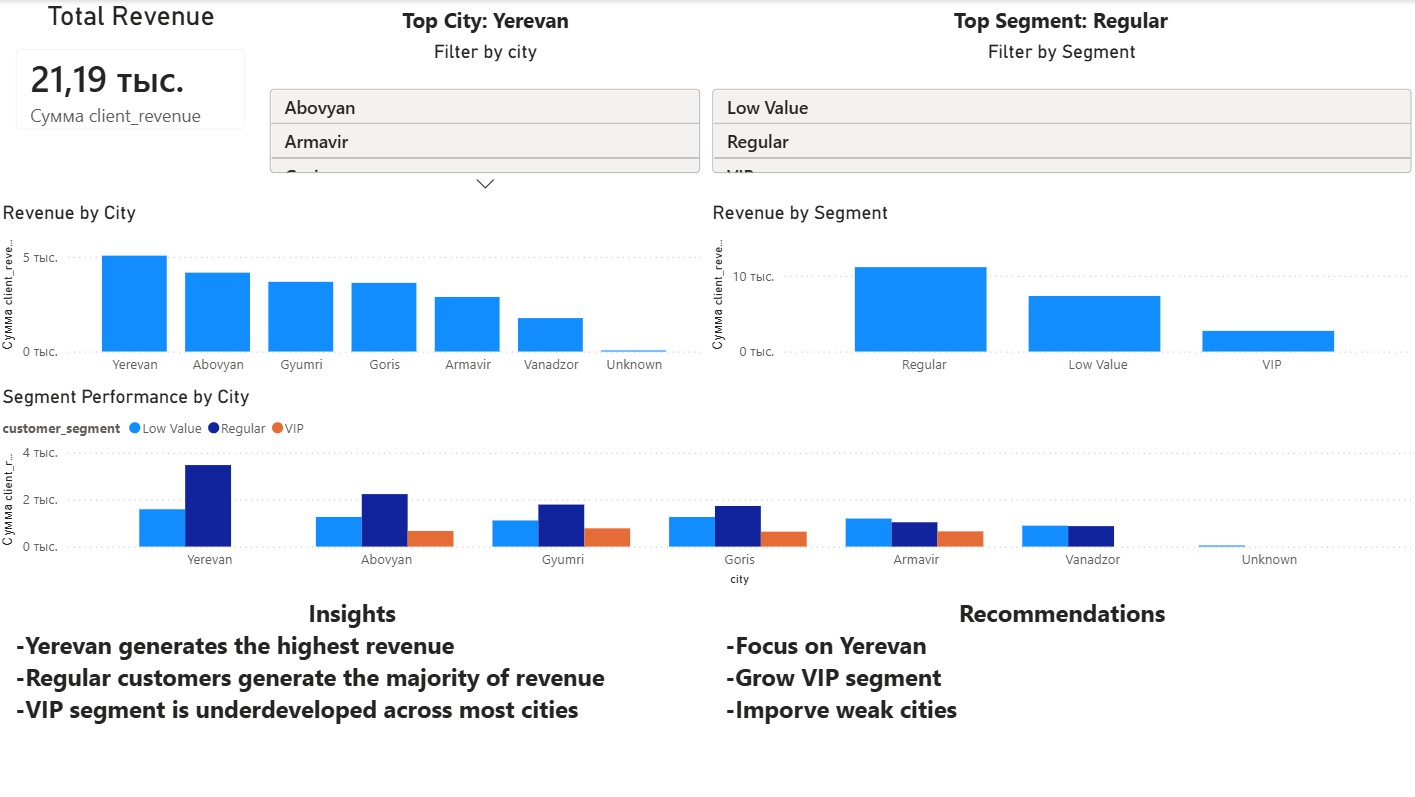

Layout of this report page (visuals, bound fields, positions):
{"tool":"powerbi","page":{"name":"Страница 1","canvas":[1280,720],"ordinal":0},"visuals":[{"type":"clusteredColumnChart","title":"Revenue by City","fields":{"Category":["customer_segments.city"],"Y":["Sum(customer_segments.client_revenue)"]},"box":[0,181.4,640,165.7],"z":0},{"type":"clusteredColumnChart","title":"Revenue by Segment","fields":{"Category":["customer_segments.customer_segment"],"Y":["Sum(customer_segments.client_revenue)"]},"box":[640,181.4,640,165.7],"z":1000},{"type":"clusteredColumnChart","title":"Segment Performance by City","fields":{"Y":["Sum(customer_segments.client_revenue)"],"Category":["customer_segments.city"],"Series":["customer_segments.customer_segment"]},"box":[0,347.1,1280,185.7],"z":2000},{"type":"cardVisual","title":"Total Revenue","fields":{"Data":["Sum(customer_segments.client_revenue)"]},"box":[0,0,241.4,134.3],"z":3000},{"type":"cardVisual","title":"Filter by city","fields":{"Data":["Sum(customer_segments.client_revenue)"],"Rows":["customer_segments.city"]},"box":[241.4,35.7,398.6,145.7],"z":4000},{"type":"cardVisual","title":"Filter by Segment","fields":{"Rows":["customer_segments.customer_segment"],"Data":["Sum(customer_segments.client_revenue)"]},"box":[640,35.7,640,145.7],"z":5000},{"type":"textbox","box":[241.4,0,398.6,35.7],"z":6000},{"type":"textbox","box":[727.1,0,464.3,35.7],"z":7000},{"type":"textbox","box":[0,532.9,640,187.1],"z":7001},{"type":"textbox","box":[640,533,640,187],"z":7002}]}

Visuals, with their boxes in screenshot pixels (x1, y1, x2, y2), scaled from the page's 1280x720 canvas onto the 1415x797 screenshot:
"Revenue by City" clusteredColumnChart: region(0, 201, 708, 384)
"Revenue by Segment" clusteredColumnChart: region(708, 201, 1414, 384)
"Segment Performance by City" clusteredColumnChart: region(0, 384, 1414, 590)
"Total Revenue" cardVisual: region(0, 0, 267, 149)
"Filter by city" cardVisual: region(267, 40, 708, 201)
"Filter by Segment" cardVisual: region(708, 40, 1414, 201)
textbox: region(267, 0, 708, 40)
textbox: region(804, 0, 1317, 40)
textbox: region(0, 590, 708, 796)
textbox: region(708, 590, 1414, 796)
